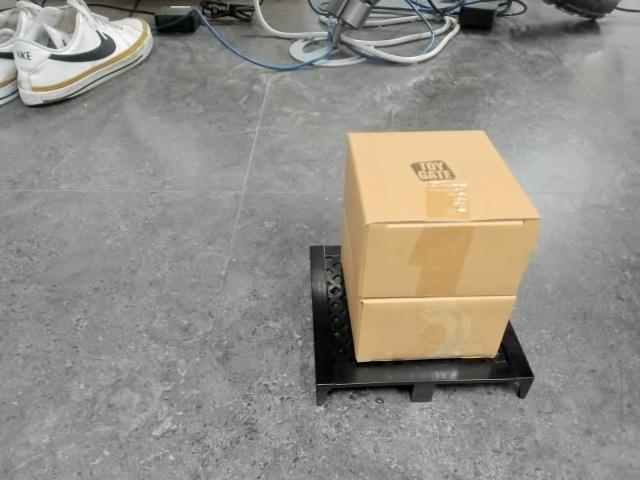box: (309, 131, 543, 407)
